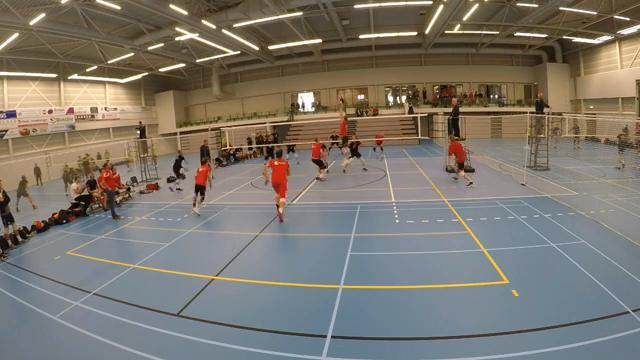alzata: (331, 96, 358, 171)
